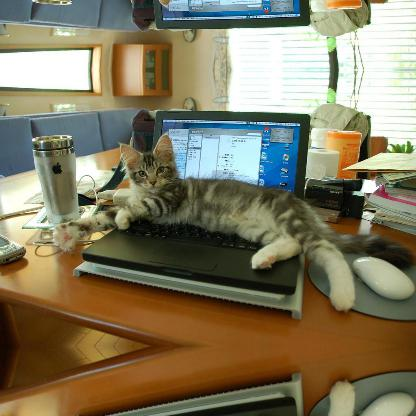Cat: (52, 128, 412, 310)
